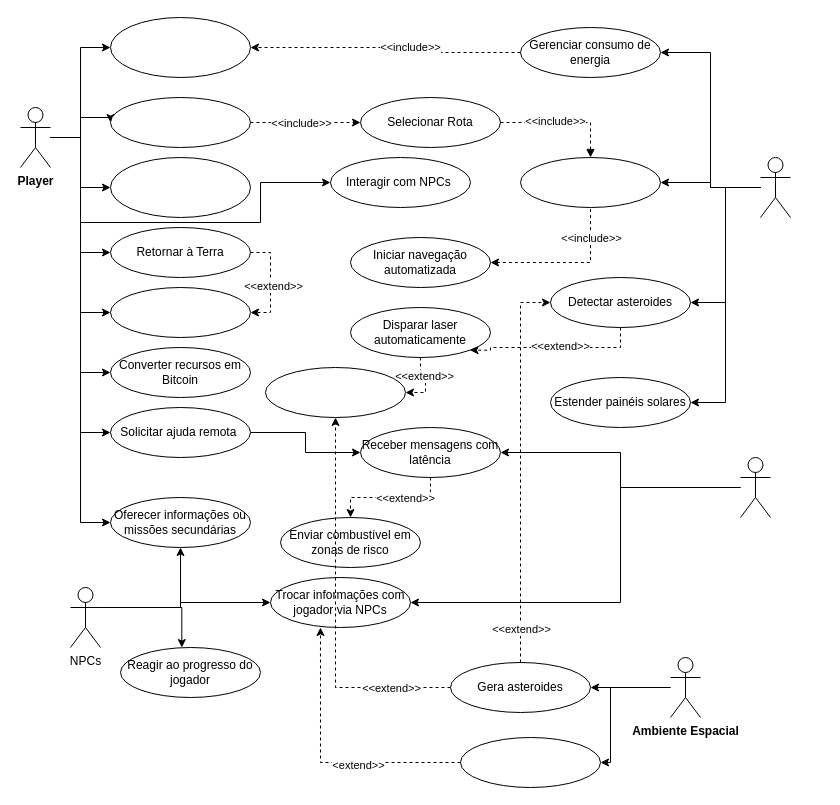
Some shapes in this 840 by 805 pixel diagram are drawn without their labels. The shapes that lost their labels are listed below. From the top down, each one's centre as x and y in pixels, then its label:
At [180,47]: "Monitorar indicadores (energia, combustível, latência)".
At [180,122]: "Selecionar destino".
At [180,187]: "Coletar pepitas de ouro".
At [590,182]: "Calcular Rota".
At [775,187]: "Sistema da Nave".
At [180,312]: "Realizar upgrades na nave".
At [335,392]: "Gerar ouro".
At [755,487]: "Terra (Suporte Remoto)".
At [530,762]: "Posicionar NPCs".
